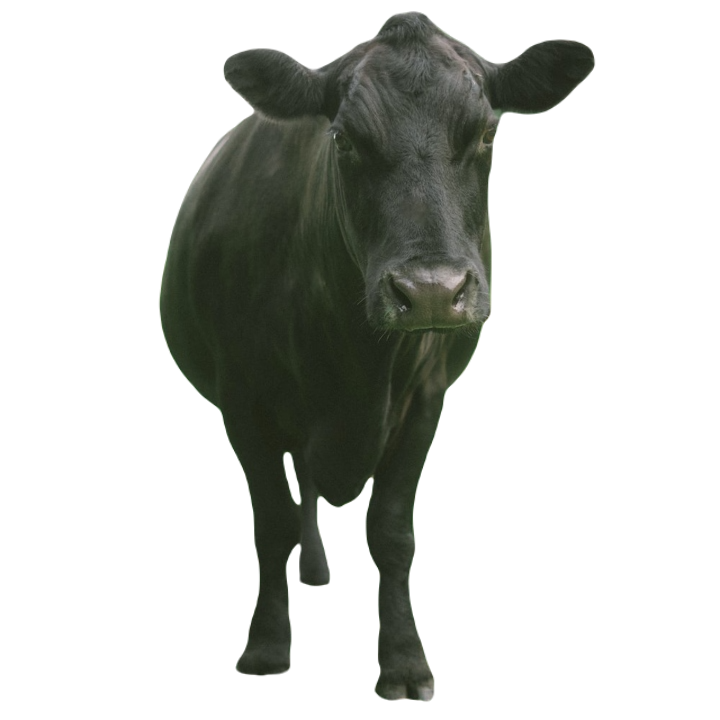Cow: (159, 13, 593, 700)
